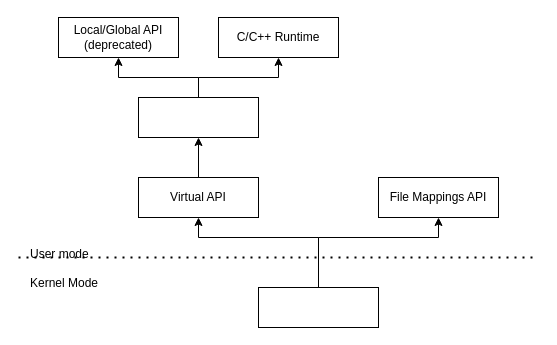
Some shapes in this 557 by 345 pixel diagram are drawn without their labels. Here are the shapes that lost their labels. From the top down, the centre of each, then its label:
[198,117]: Heap manager API
[318,307]: Memory manager
